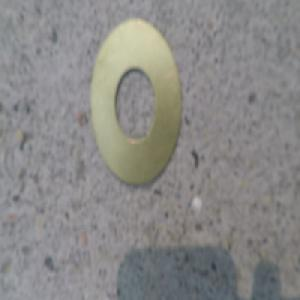Washer: (86, 22, 180, 189)
